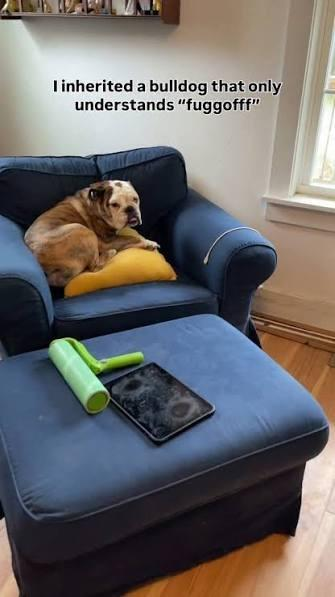adult_dog: (24, 181, 161, 287)
